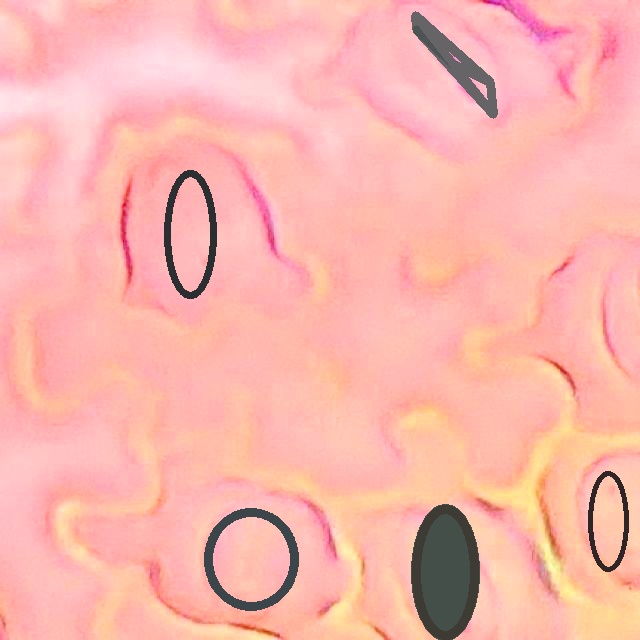close: (203, 506, 299, 611), (163, 170, 216, 297), (586, 470, 629, 572)
open: (411, 503, 479, 640), (412, 11, 494, 118)
